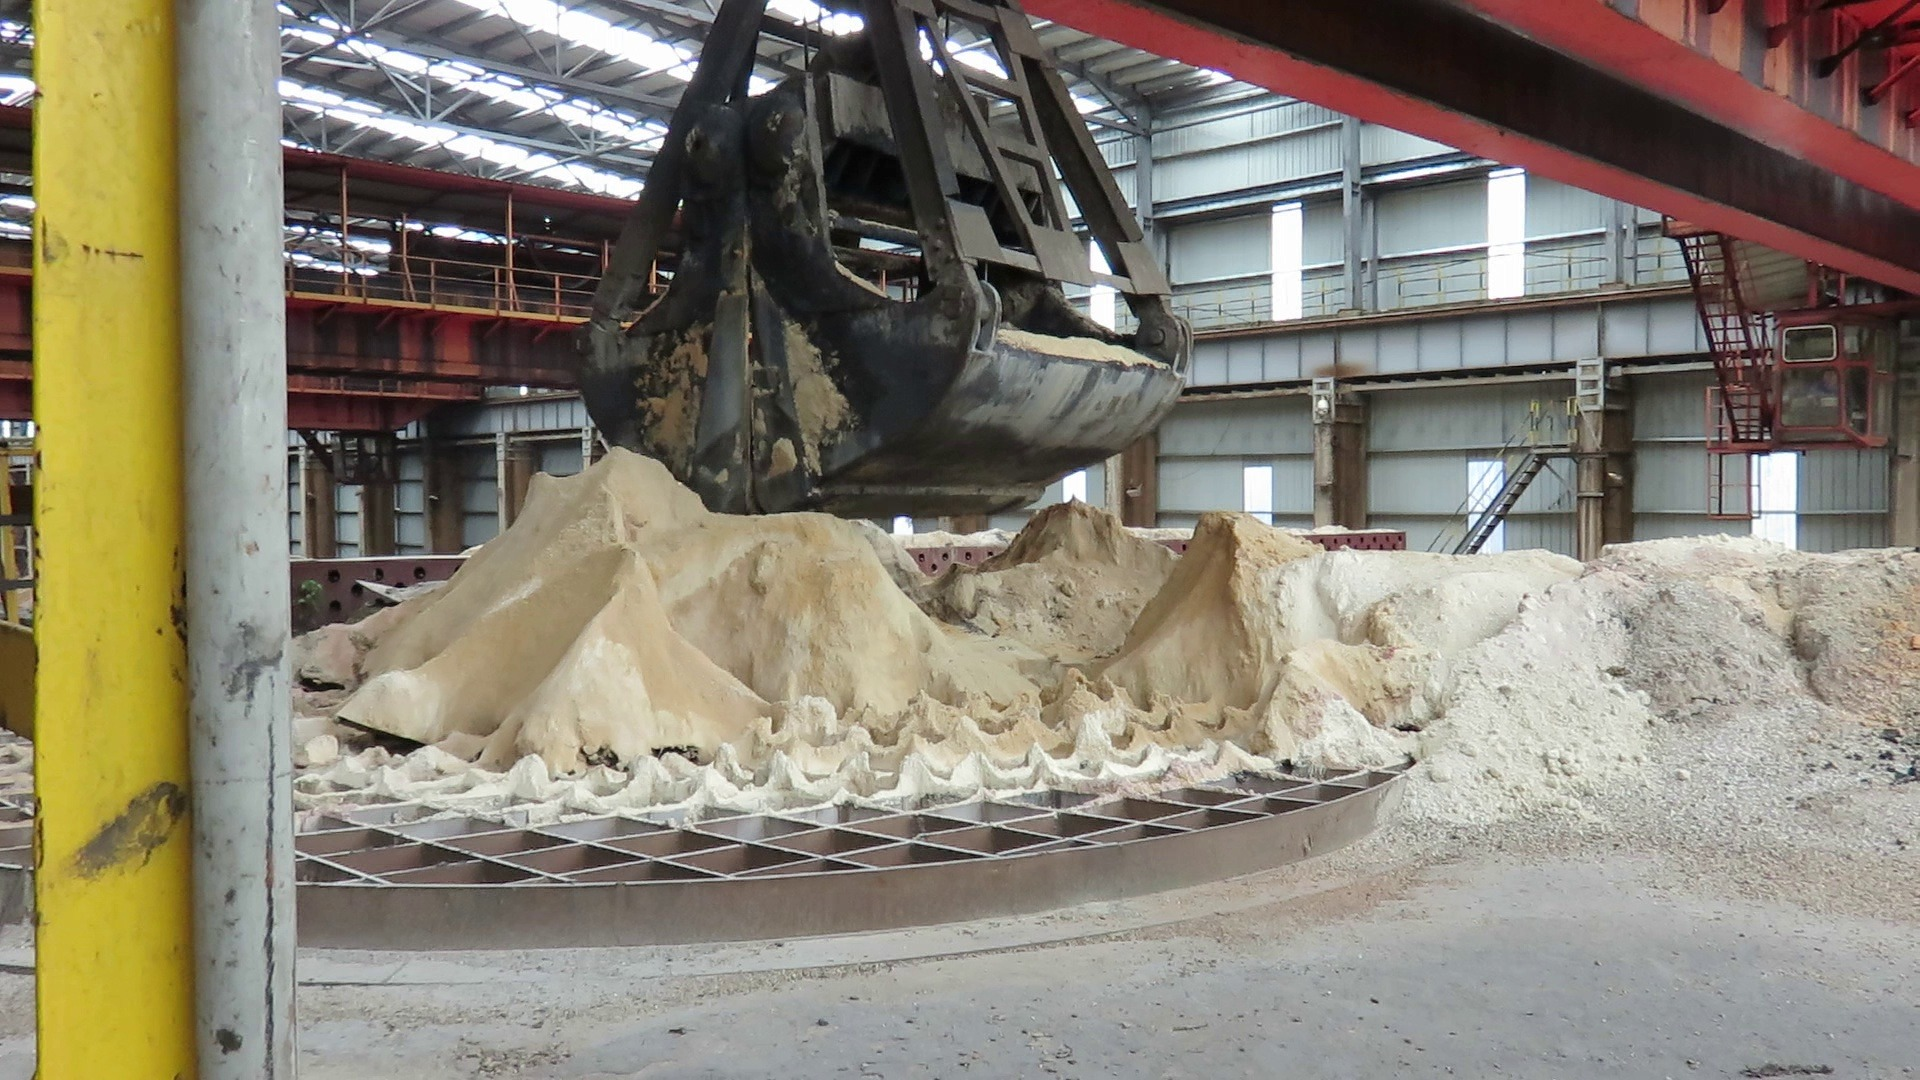grab: (568, 0, 1197, 525)
